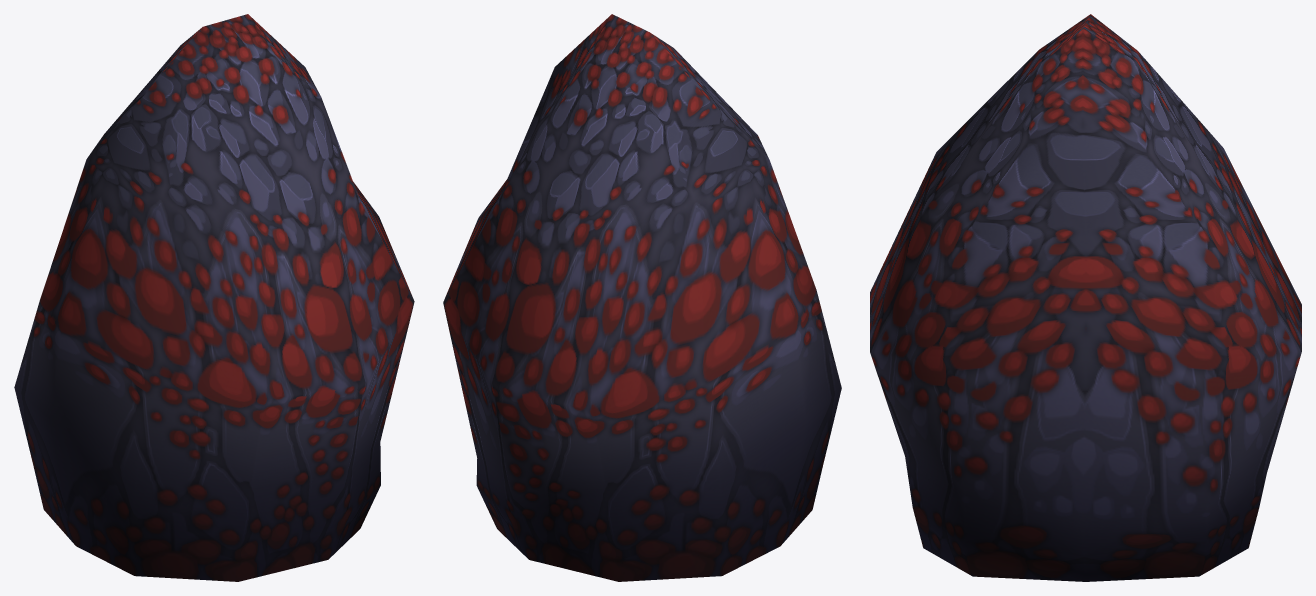
Rendered from Rock_03c.FBX.
3 renders of one model, left to right at view 1: azimuth 30°, elevation 25°; view 2: azimuth 150°, elevation 25°; view 3: azimuth 270°, elevation 25°, orthographic. The views are drawn at different scales.
Parts seen in each view (by area): view 1: Rock_03c; view 2: Rock_03c; view 3: Rock_03c.
Part boxes in pixels (x1,y1,x2,y2): Rock_03c: (14, 14, 414, 581); Rock_03c: (443, 14, 841, 581); Rock_03c: (870, 14, 1301, 581).
Bounding box in the file's own units: 128 × 183 × 138.
